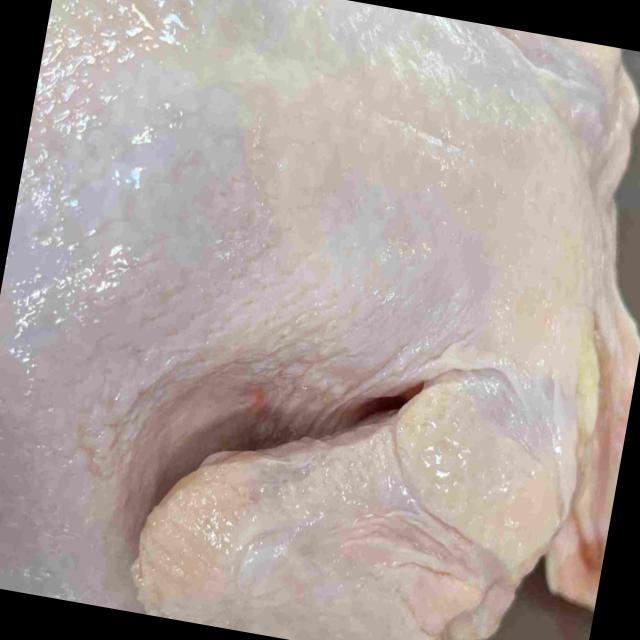back: (4, 0, 578, 348)
leg: (0, 330, 165, 608)
neck: (558, 264, 640, 611)
wing: (130, 359, 569, 640), (501, 27, 640, 121)
